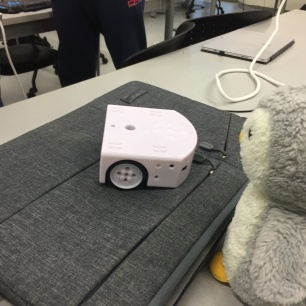thymio: (97, 102, 198, 197)
